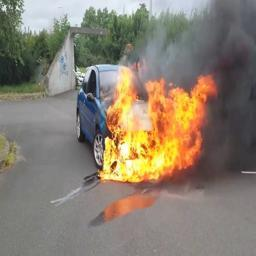fire: (98, 58, 218, 184)
